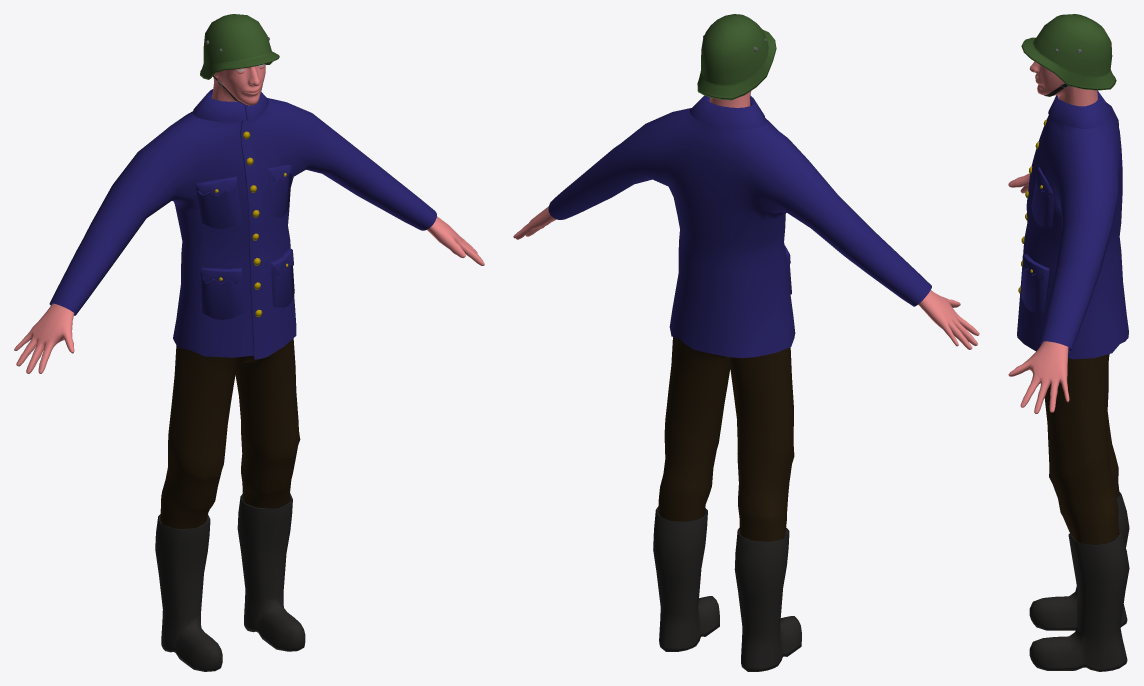
The model's file is landser.fbx.
The picture shows the model from 3 angles, left to right: view 1: azimuth 30°, elevation 25°; view 2: azimuth 150°, elevation 25°; view 3: azimuth 270°, elevation 25°; orthographic projection.
Visible parts, largest first — view 1: polySurface30; view 2: polySurface30; view 3: polySurface30.
Part boxes in pixels (left/top/right/bottom): polySurface30: left=14, top=14, right=484, bottom=671; polySurface30: left=513, top=14, right=979, bottom=671; polySurface30: left=1008, top=14, right=1129, bottom=671.
Size of the model in its own units: 142 by 186 by 32.51.
